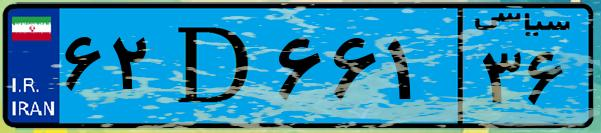1: (385, 28, 445, 110)
2: (110, 28, 158, 98)
3: (475, 38, 525, 113)
6: (270, 28, 330, 110), (330, 28, 385, 110), (57, 26, 110, 100), (525, 38, 570, 115)
D: (158, 12, 270, 120)
